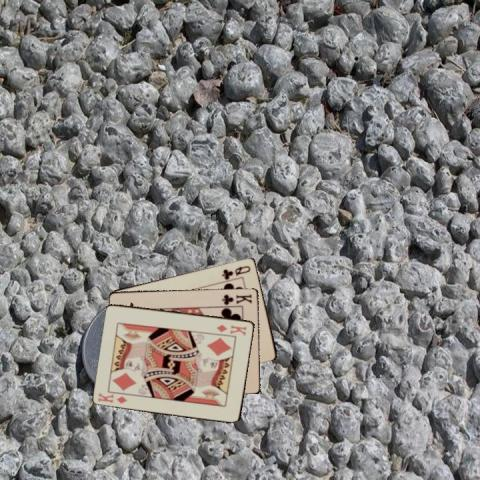Kc: (220, 292, 254, 305)
Kd: (95, 387, 133, 405), (213, 321, 248, 337)
Qc: (219, 263, 252, 280)
